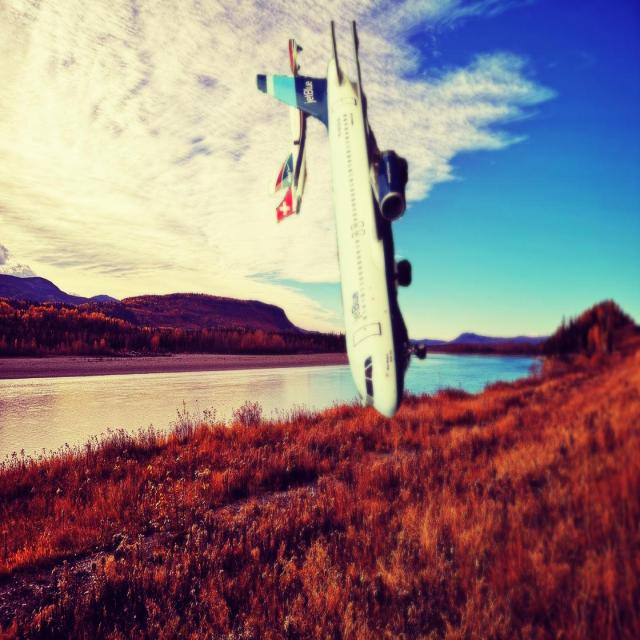airplane: (255, 18, 428, 418), (275, 37, 312, 223)
